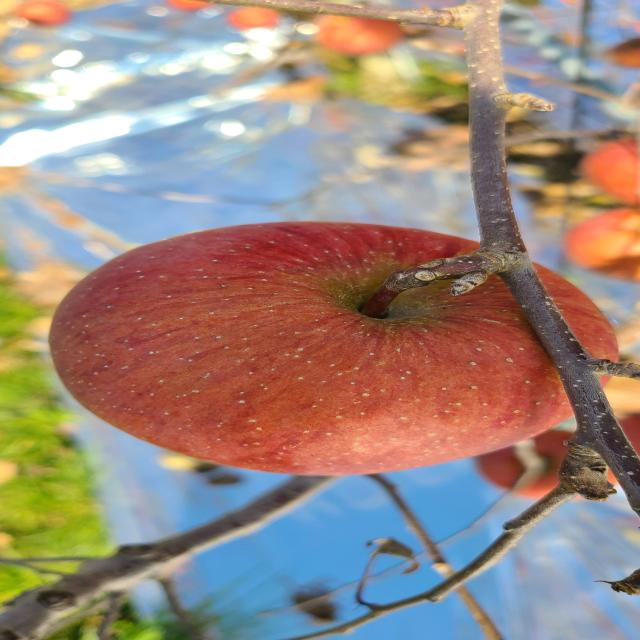fresh: (23, 213, 628, 483)
